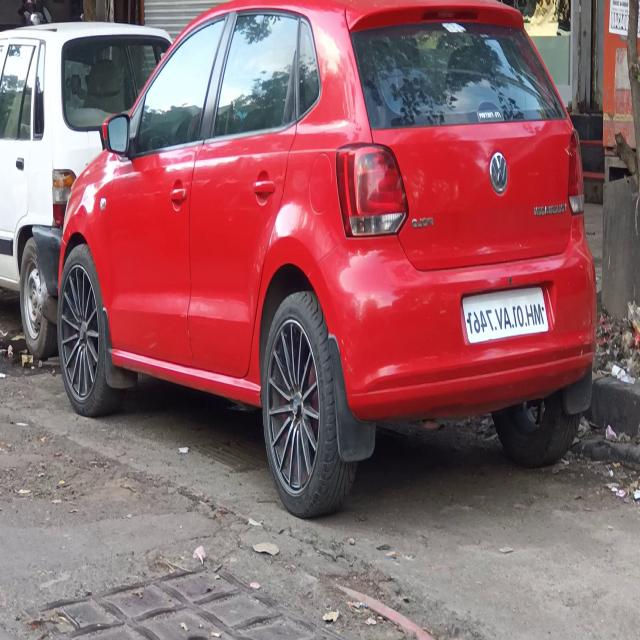license_plate: (456, 274, 552, 354)
